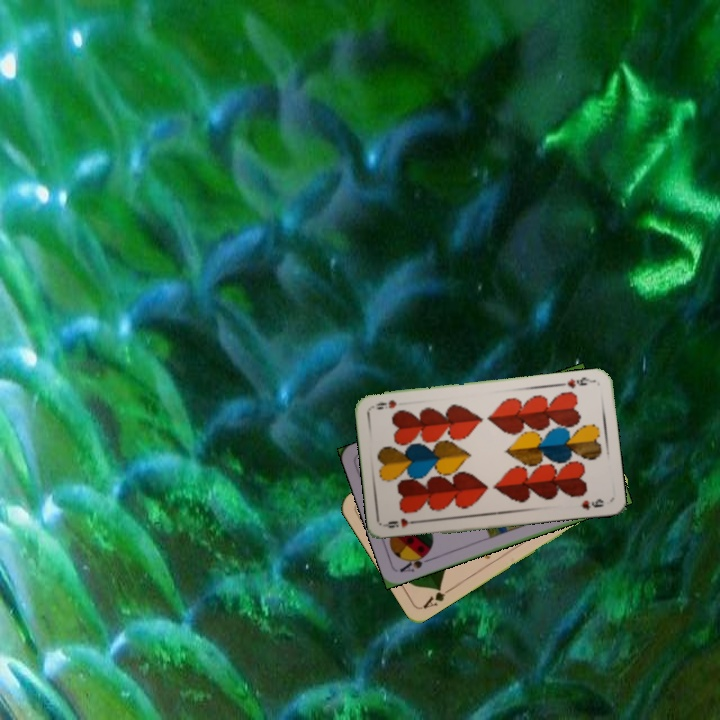GA: (419, 583, 455, 612)
H9: (556, 373, 597, 391), (382, 514, 422, 531)
SA: (396, 548, 435, 575)
